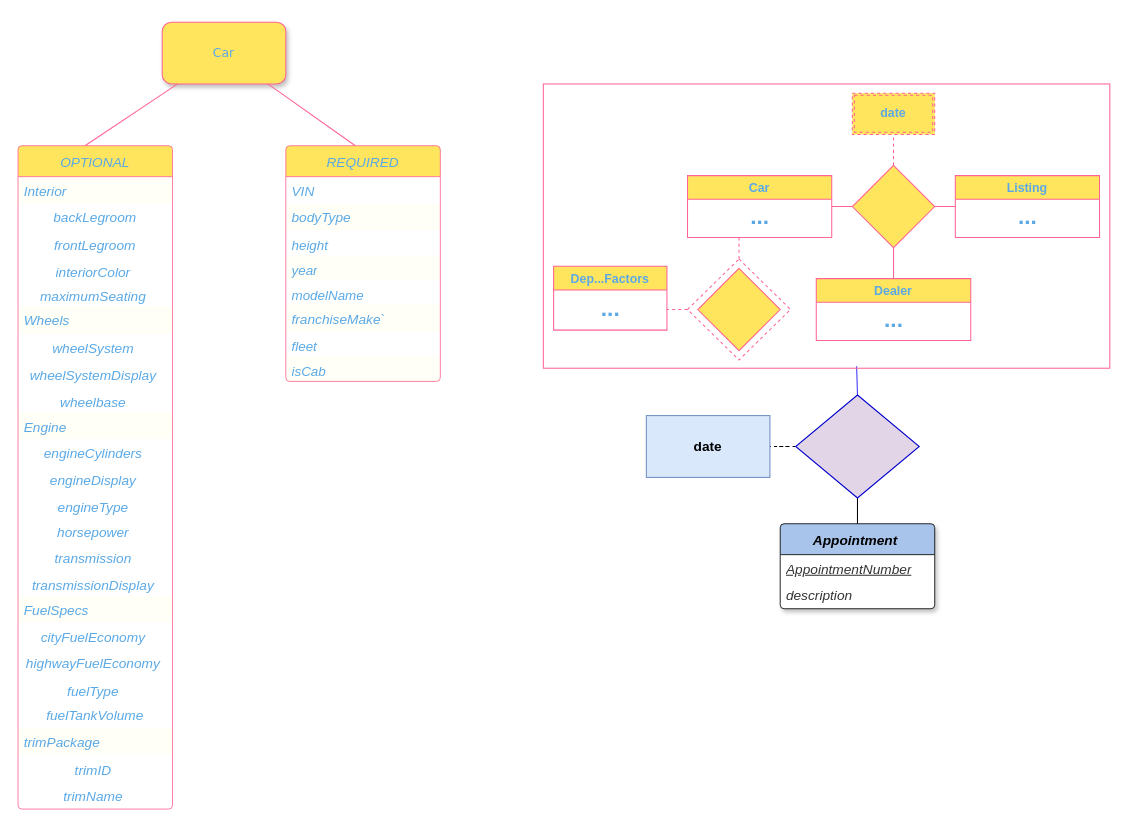
Image size: 1128x830. Some labels were removed from this diagram. The centre of each missing label's shape, as x and y in pixels:
"CarSale" belongs at point (893, 206).
"effectsDep..." belongs at point (738, 309).
"meetFor" belongs at point (857, 446).
